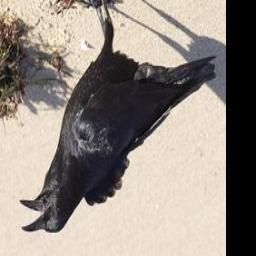Crow: (19, 0, 218, 235)
